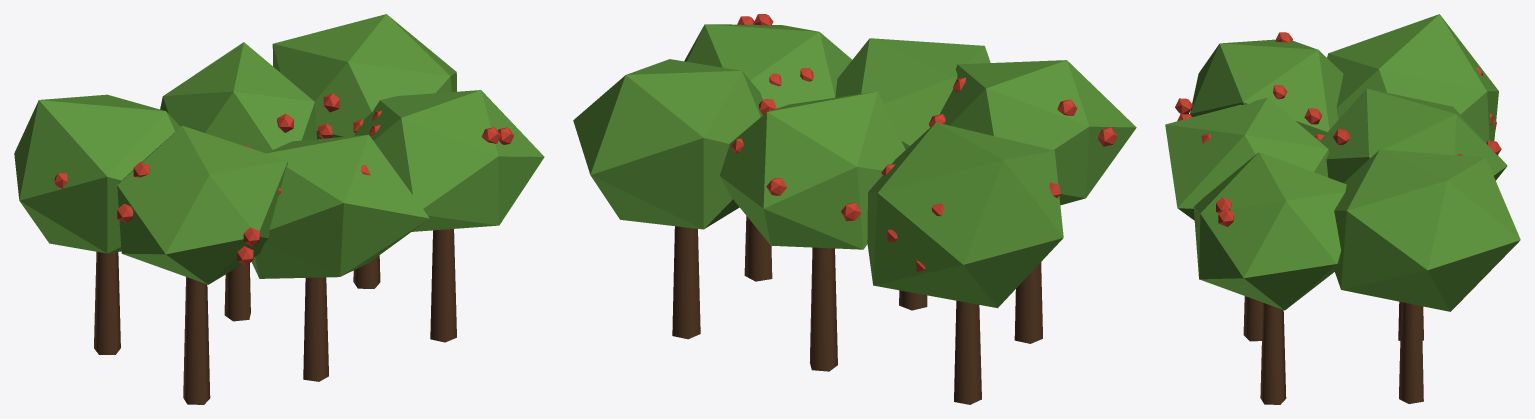
Rendered from sawyer_orchard_d.glb.
3 renders of one model, left to right at view 1: azimuth 30°, elevation 25°; view 2: azimuth 150°, elevation 25°; view 3: azimuth 270°, elevation 25°, orthographic. The views are drawn at different scales.
Visible parts, largest first — view 1: fruit_3_crown, fruit_4_crown, fruit_0_crown, fruit_5_crown, fruit_2_crown, fruit_1_crown, fruit_3_trunk, fruit_5_trunk, fruit_0_trunk, fruit_4_trunk, fruit_1_trunk, fruit_2_trunk; view 2: fruit_0_crown, fruit_2_crown, fruit_1_crown, fruit_3_crown, fruit_5_crown, fruit_4_crown, fruit_1_trunk, fruit_2_trunk, fruit_0_trunk, fruit_3_trunk, fruit_5_trunk; view 3: fruit_2_crown, fruit_5_crown, fruit_0_crown, fruit_4_crown, fruit_3_crown, fruit_1_crown, fruit_5_trunk, fruit_2_trunk, fruit_4_trunk.
Boxes of the visible parts, left/top/right/bottom form: fruit_3_crown: left=117, top=125, right=287, bottom=284; fruit_4_crown: left=251, top=134, right=429, bottom=278; fruit_0_crown: left=14, top=94, right=180, bottom=253; fruit_5_crown: left=354, top=90, right=544, bottom=231; fruit_2_crown: left=272, top=14, right=456, bottom=139; fruit_1_crown: left=160, top=42, right=316, bottom=153; fruit_3_trunk: left=183, top=277, right=210, bottom=404; fruit_5_trunk: left=430, top=229, right=456, bottom=342; fruit_0_trunk: left=94, top=251, right=120, bottom=354; fruit_4_trunk: left=303, top=277, right=328, bottom=381; fruit_1_trunk: left=224, top=263, right=250, bottom=321; fruit_2_trunk: left=353, top=255, right=380, bottom=288; fruit_0_crown: left=867, top=122, right=1063, bottom=308; fruit_2_crown: left=573, top=59, right=762, bottom=229; fruit_1_crown: left=719, top=91, right=905, bottom=249; fruit_3_crown: left=940, top=60, right=1136, bottom=205; fruit_5_crown: left=684, top=24, right=851, bottom=108; fruit_4_crown: left=835, top=38, right=990, bottom=149; fruit_1_trunk: left=809, top=247, right=837, bottom=371; fruit_2_trunk: left=672, top=226, right=700, bottom=339; fruit_0_trunk: left=954, top=300, right=981, bottom=404; fruit_3_trunk: left=1014, top=262, right=1042, bottom=343; fruit_5_trunk: left=744, top=216, right=772, bottom=281; fruit_2_crown: left=1334, top=149, right=1520, bottom=311; fruit_5_crown: left=1194, top=152, right=1346, bottom=310; fruit_0_crown: left=1327, top=14, right=1498, bottom=142; fruit_4_crown: left=1165, top=97, right=1328, bottom=220; fruit_3_crown: left=1190, top=39, right=1343, bottom=135; fruit_1_crown: left=1319, top=88, right=1507, bottom=182; fruit_5_trunk: left=1260, top=302, right=1286, bottom=404; fruit_2_trunk: left=1399, top=302, right=1423, bottom=403; fruit_4_trunk: left=1243, top=296, right=1262, bottom=341.
Size of the model in its own units: 3.65 by 1.95 by 2.62.
